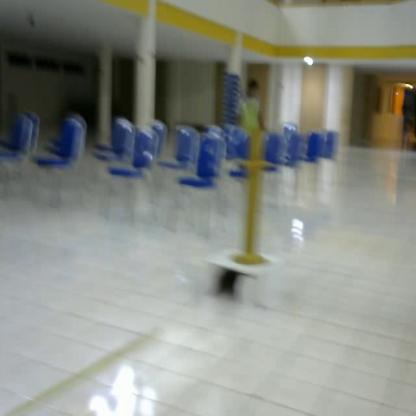pole: (225, 128, 285, 272)
